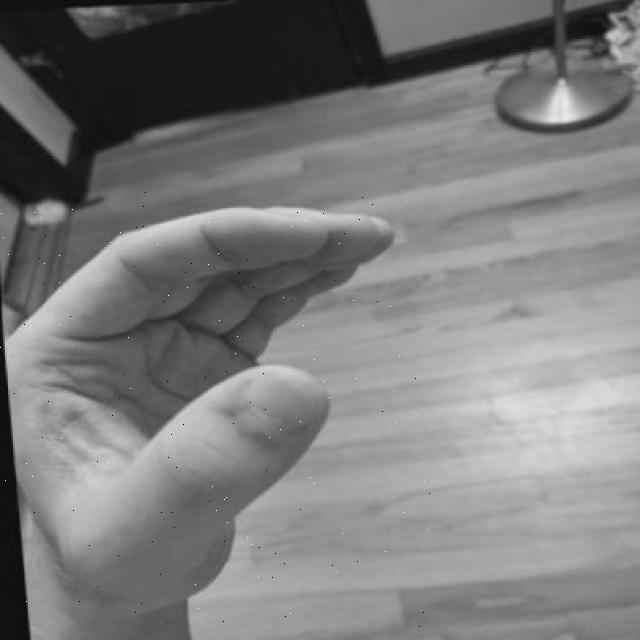C: (0, 190, 432, 627)
